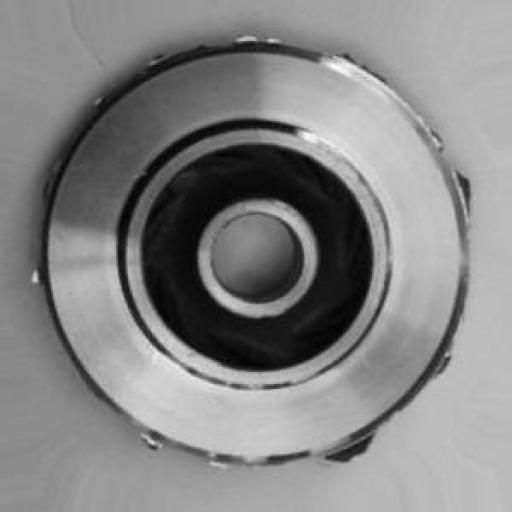defect: (24, 33, 484, 482)
